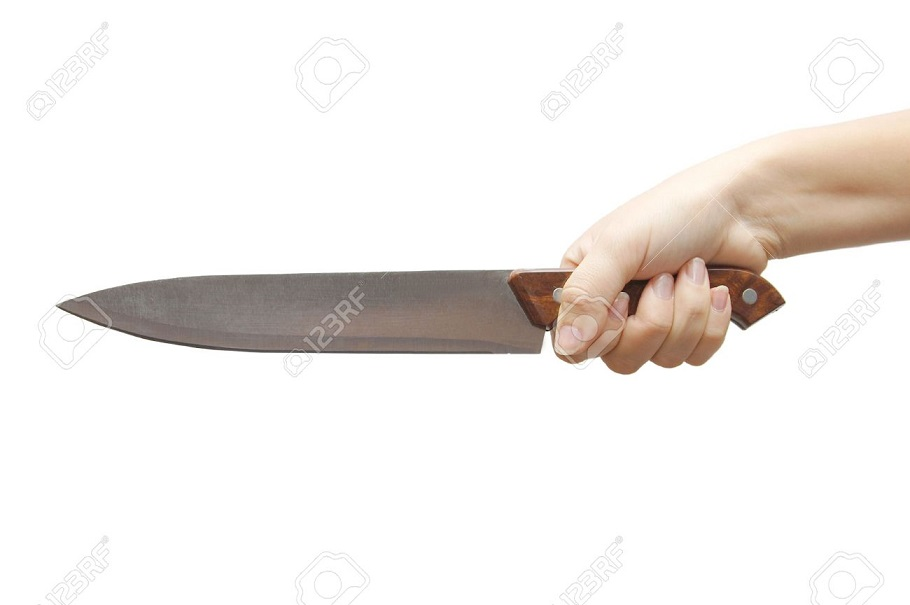knife: (45, 202, 730, 388)
